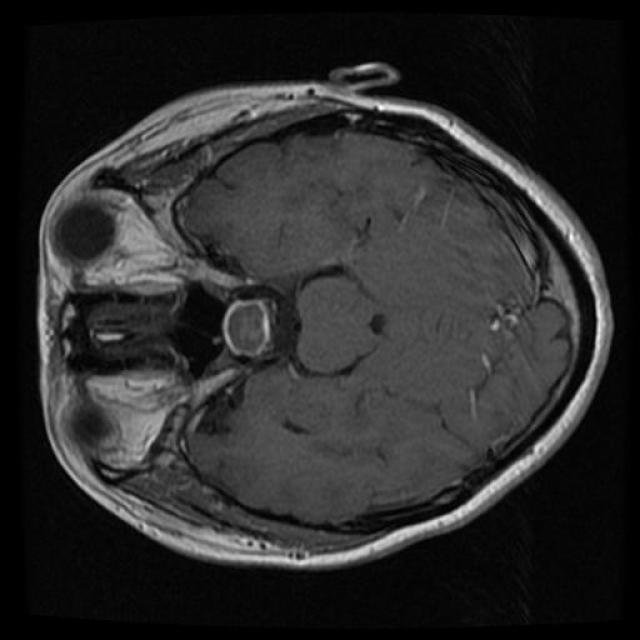Pituitary: (205, 258, 306, 373)
